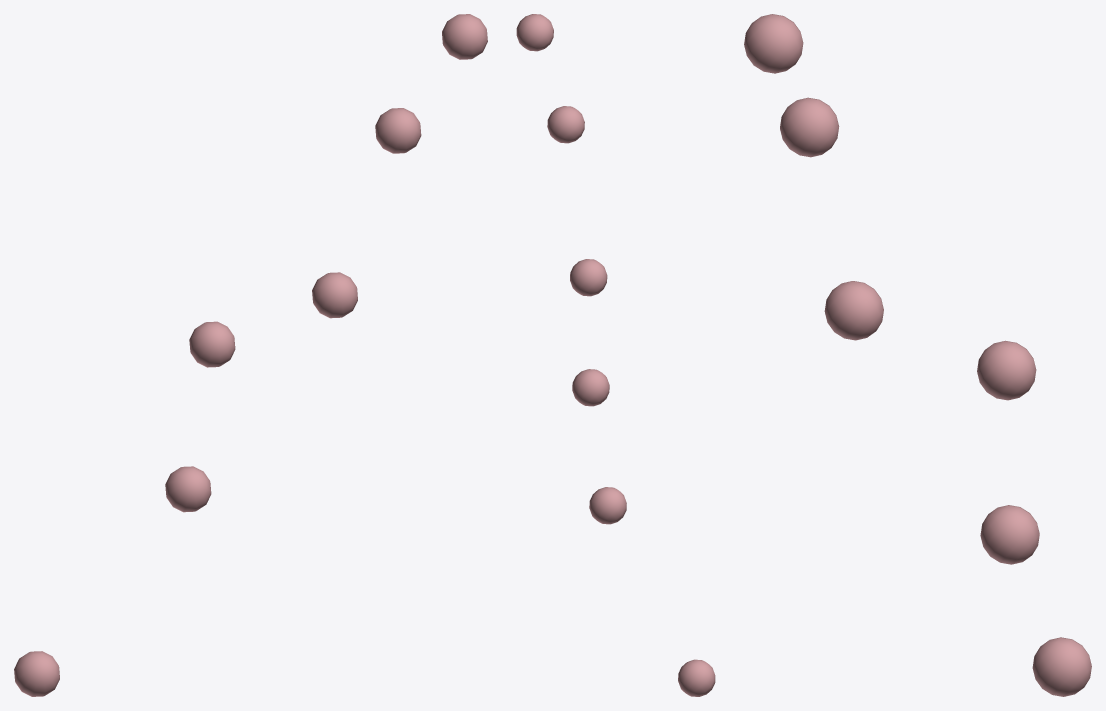
3 renders of one model, left to right at view 1: azimuth 30°, elevation 25°; view 2: azimuth 150°, elevation 25°; view 3: azimuth 270°, elevation 25°, orthographic. The views are drawn at different scales.
Visible parts, largest first — view 1: ZA_0d4dd9e3199a3376; view 2: ZA_0d4dd9e3199a3376; view 3: ZA_0d4dd9e3199a3376.
Boxes of the visible parts, box(x1,y1,x2,y2) form: ZA_0d4dd9e3199a3376: box(14, 14, 487, 696); ZA_0d4dd9e3199a3376: box(516, 14, 715, 696); ZA_0d4dd9e3199a3376: box(744, 14, 1091, 696).
Size of the model in its own units: 0.0225 by 0.0415 by 0.015.
